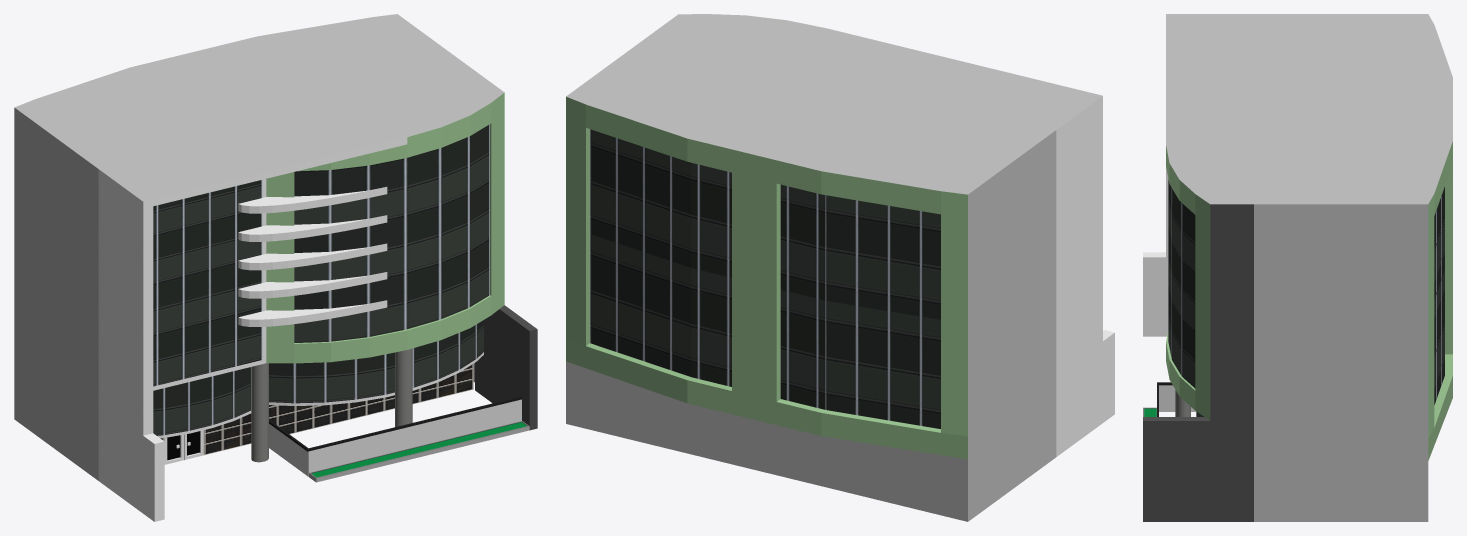
3 renders of one model, left to right at view 1: azimuth 30°, elevation 25°; view 2: azimuth 150°, elevation 25°; view 3: azimuth 270°, elevation 25°, orthographic. The views are drawn at different scales.
Parts seen in each view (by area): view 1: BB-048; view 2: BB-048; view 3: BB-048.
Part boxes in pixels (x1,y1,x2,y2): BB-048: (14, 14, 537, 521); BB-048: (566, 14, 1114, 521); BB-048: (1143, 14, 1452, 521).
Size of what is drawn, in the model's own units: 28.27 by 22 by 19.45.
